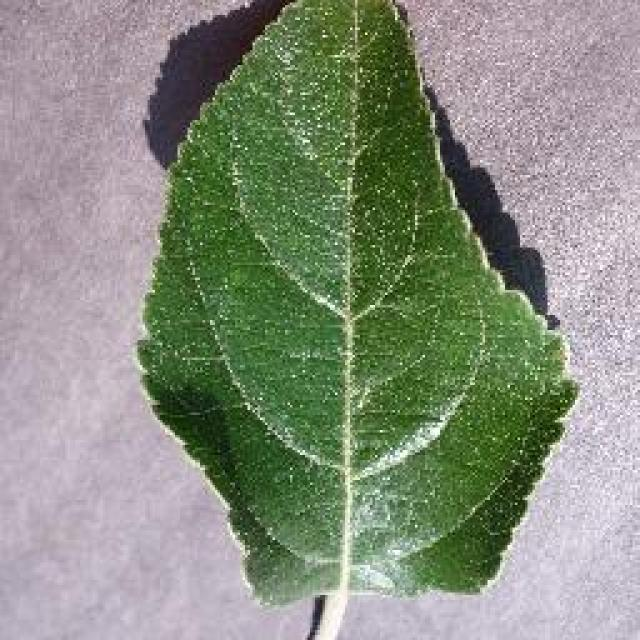apple healthy: (130, 0, 580, 618)
